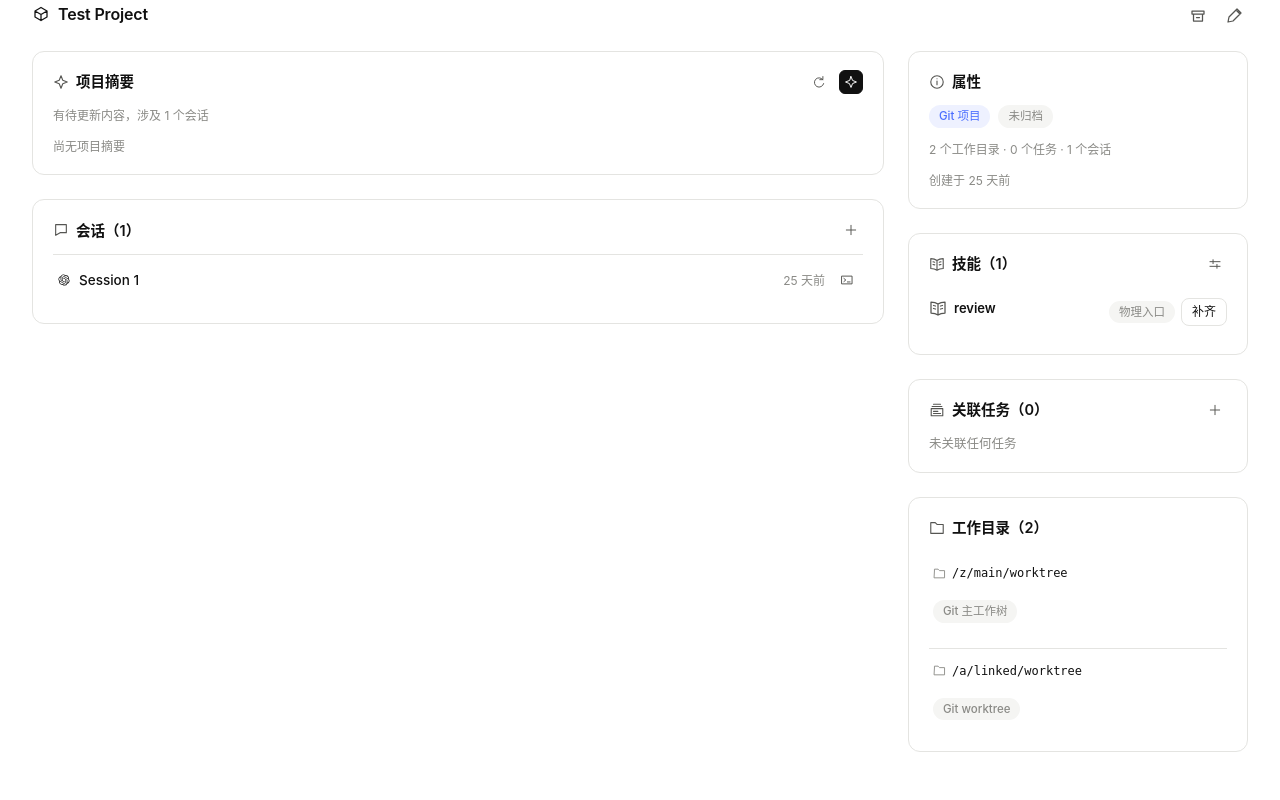
Scenario: ProjectDetail › keeps a referenced project source enabled and unavailable for direct disable
Expected: the button "停用" is not shown
Click the button named "配置技能": (1215, 264) x1=1203 y1=252 x2=1227 y2=276
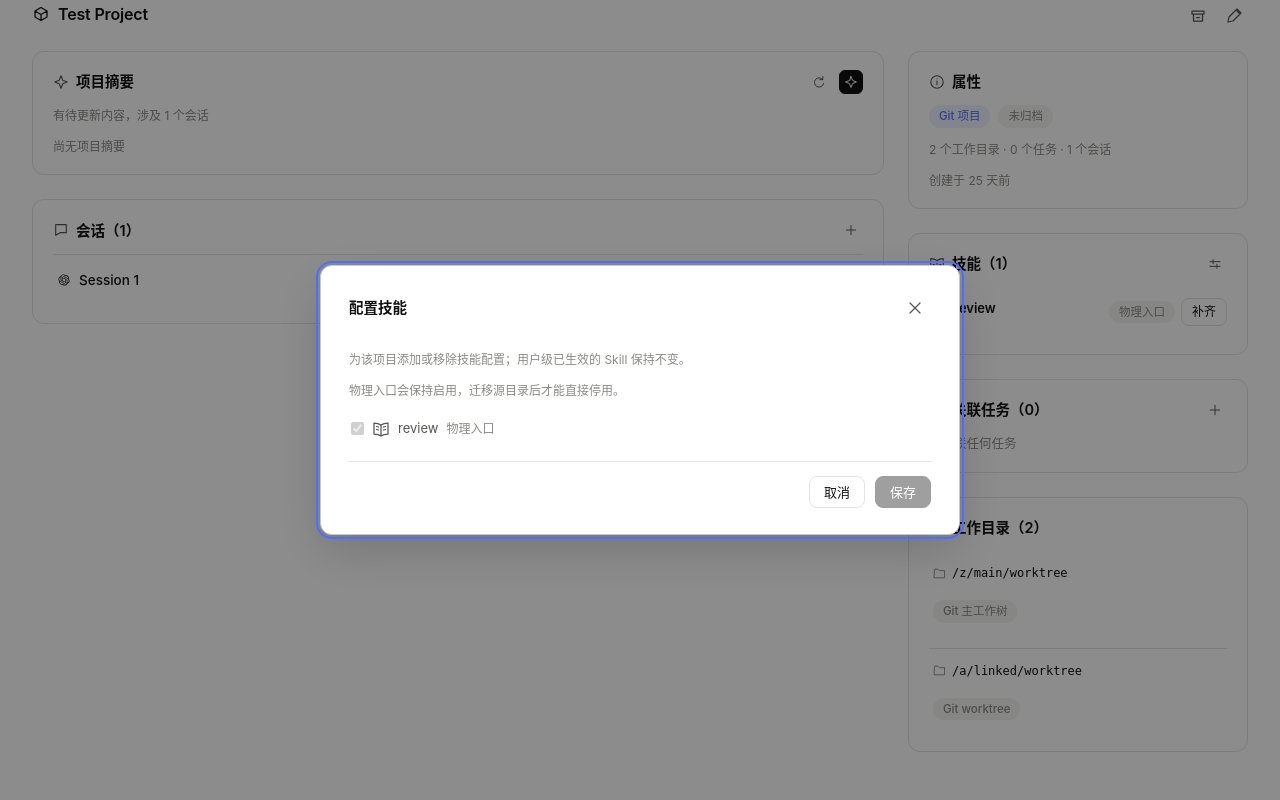
Expected: the checkbox labelled "review 物理入口" is checked, x1=351 y1=422 x2=364 y2=435
Expected: the checkbox labelled "review 物理入口" is disabled, x1=351 y1=422 x2=364 y2=435
